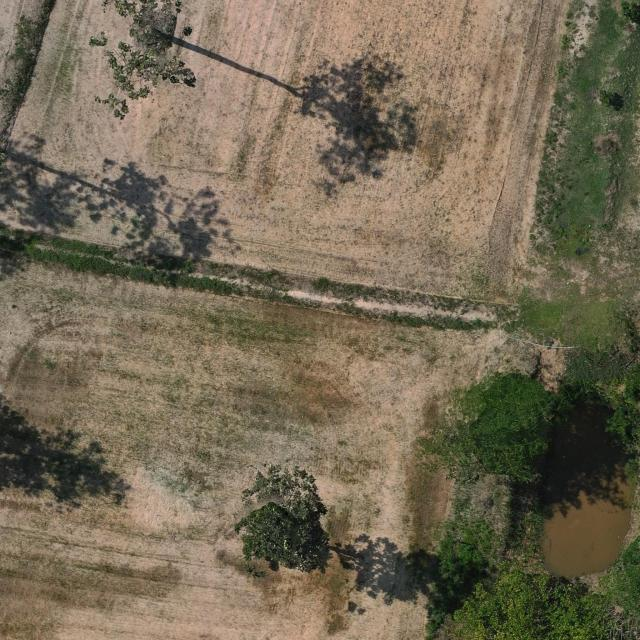Tree: (411, 372, 564, 487), (89, 0, 197, 119), (233, 462, 333, 582), (453, 567, 610, 640), (436, 515, 498, 584), (620, 0, 640, 25), (598, 88, 616, 110)
